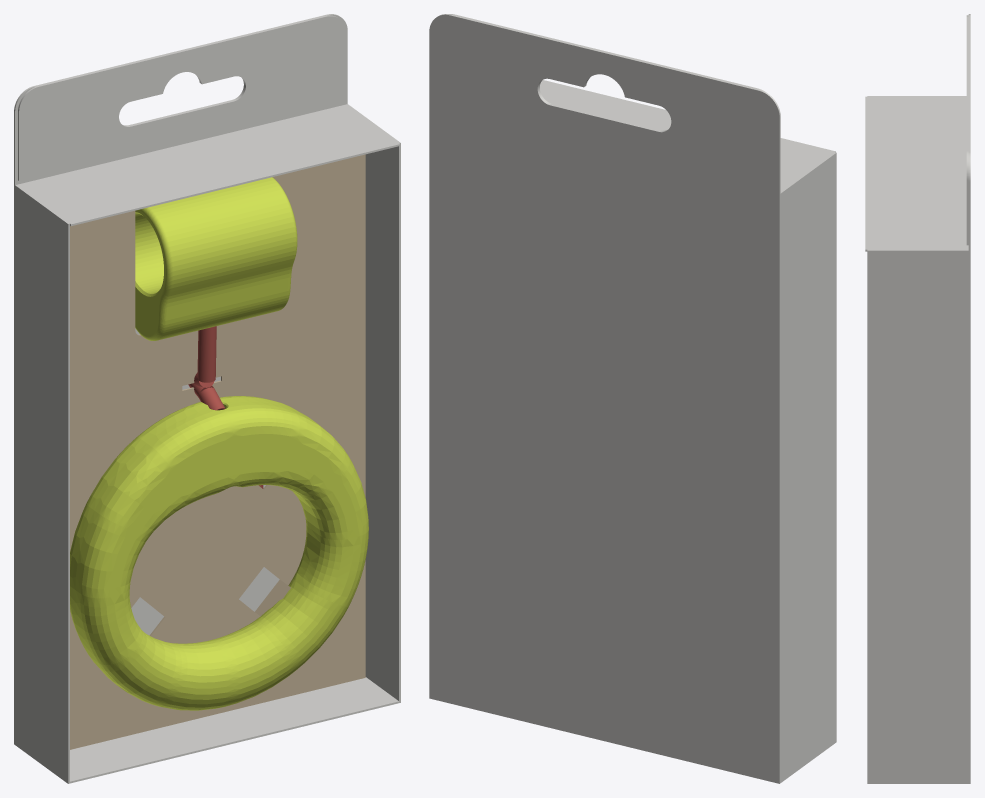
Rendered from Tuerzwerg_Verpackung.glb.
3 views of the same model, side by side, from view 1: azimuth 30°, elevation 25°; view 2: azimuth 150°, elevation 25°; view 3: azimuth 270°, elevation 25° (orthographic). The views are drawn at different scales.
Visible parts, largest first — view 1: Einleger, Umverpackung, Ring, Aufhaenger, Manschette, Deckel, Schnur; view 2: Umverpackung, Aufhaenger, Deckel; view 3: Umverpackung, Deckel, Aufhaenger.
Boxes of the visible parts, left/top/right/bottom form: Einleger: left=70, top=154, right=365, bottom=749; Umverpackung: left=14, top=104, right=400, bottom=783; Ring: left=70, top=396, right=368, bottom=710; Aufhaenger: left=14, top=14, right=347, bottom=184; Manschette: left=135, top=177, right=297, bottom=340; Deckel: left=17, top=104, right=400, bottom=226; Schnur: left=188, top=326, right=263, bottom=488; Umverpackung: left=429, top=109, right=836, bottom=783; Aufhaenger: left=429, top=14, right=780, bottom=194; Deckel: left=540, top=80, right=835, bottom=191; Umverpackung: left=867, top=96, right=970, bottom=783; Deckel: left=865, top=96, right=968, bottom=251; Aufhaenger: left=966, top=14, right=970, bottom=250.
Bounding box in the file's own units: 0.0839 × 0.1575 × 0.0241.
